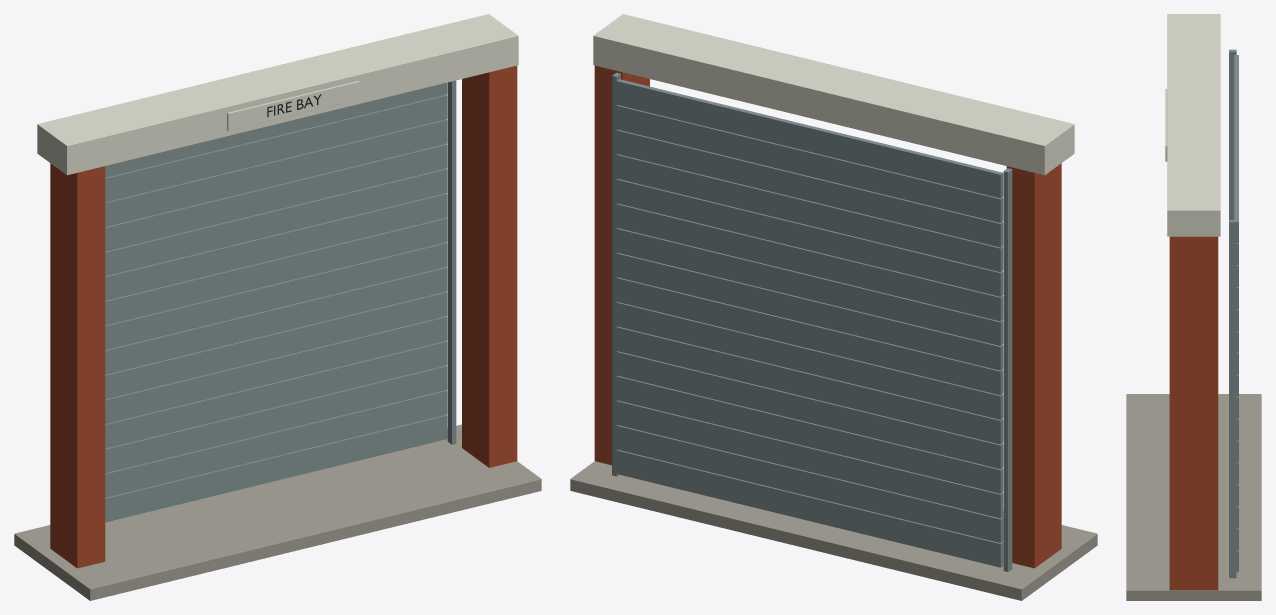
The model's file is source-edit.glb.
The picture shows the model from 3 angles, left to right: view 1: azimuth 30°, elevation 25°; view 2: azimuth 150°, elevation 25°; view 3: azimuth 270°, elevation 25°; orthographic projection. The views are drawn at different scales.
Visible parts, largest first — view 1: Bay_Slab, Lintel, Bay_Pier.001, Bay_Pier, Section_13, Section_5, Section_0, Section_11, Section_7, Section_9, Section_10, Section_2 (+9 smaller); view 2: Lintel, Bay_Pier.001, Bay_Slab, Section_15, Section_10, Section_2, Section_5, Section_7, Section_0, Section_12, Section_3, Section_8 (+10 smaller); view 3: Bay_Pier, Bay_Slab, Lintel, Guide_Rail.001, Guide_Rail, Section_15, Replaceable_Bay_Number.
Boxes of the visible parts, x1,y1,x2,y2 form: Bay_Slab: [14, 424, 541, 600]; Lintel: [37, 14, 518, 175]; Bay_Pier.001: [50, 163, 105, 568]; Bay_Pier: [462, 65, 517, 467]; Section_13: [105, 94, 447, 202]; Section_5: [105, 291, 447, 399]; Section_0: [105, 414, 447, 522]; Section_11: [105, 144, 447, 251]; Section_7: [105, 242, 447, 349]; Section_9: [105, 193, 447, 300]; Section_10: [105, 168, 447, 276]; Section_2: [105, 365, 447, 472]; Lintel: [593, 14, 1074, 175]; Bay_Pier.001: [1006, 163, 1061, 568]; Bay_Slab: [570, 461, 1097, 600]; Section_15: [616, 79, 1003, 198]; Section_10: [616, 203, 1003, 321]; Section_2: [616, 400, 1003, 518]; Section_5: [616, 326, 1003, 444]; Section_7: [616, 277, 1003, 395]; Section_0: [616, 450, 1003, 567]; Section_12: [616, 154, 1003, 272]; Section_3: [616, 376, 1003, 493]; Section_8: [616, 253, 1003, 370]; Bay_Pier: [1169, 236, 1218, 590]; Bay_Slab: [1126, 394, 1261, 600]; Lintel: [1167, 14, 1220, 236]; Guide_Rail.001: [1229, 220, 1236, 578]; Guide_Rail: [1229, 49, 1236, 219]; Section_15: [1234, 55, 1238, 242]; Replaceable_Bay_Number: [1165, 89, 1167, 161].
Size of the model in its own units: 4.8 by 4.45 by 1.4.
